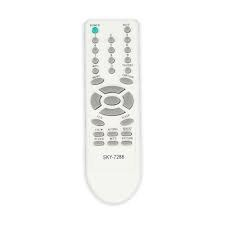remote control: (79, 18, 149, 213)
